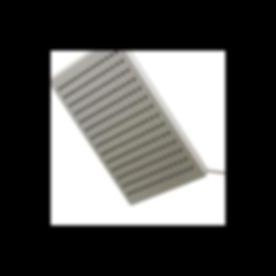Ducha: (51, 50, 225, 205)
